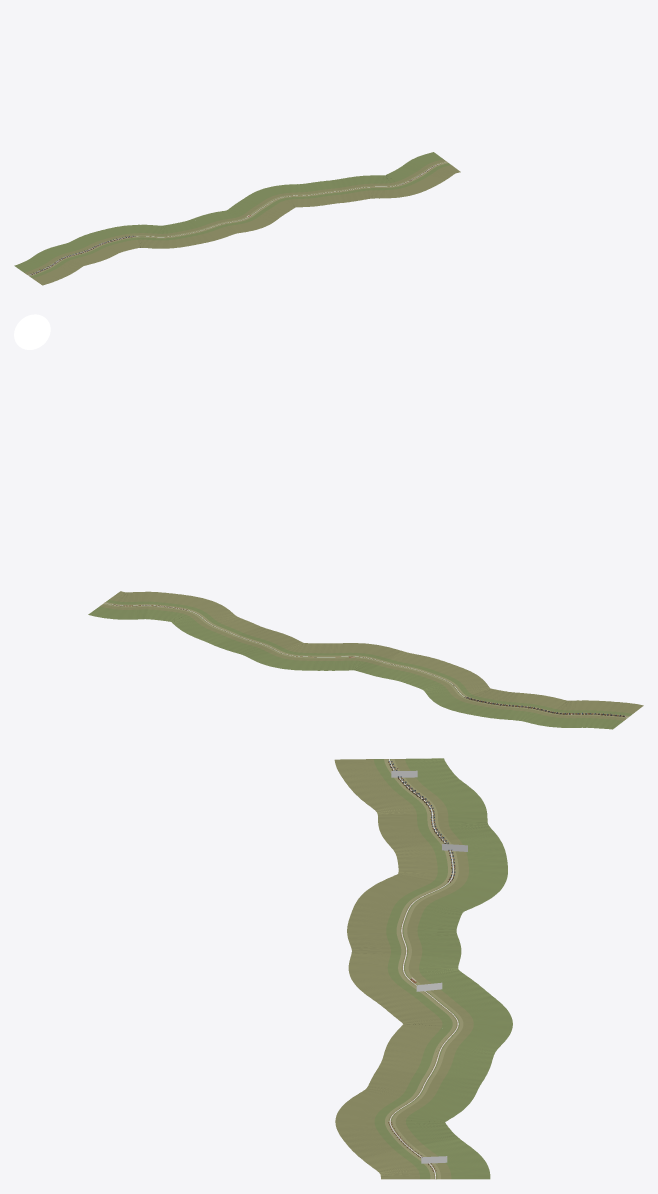
File: stampede.glb
3 renders of one model, top to bottom at view 1: azimuth 30°, elevation 25°; view 2: azimuth 150°, elevation 25°; view 3: azimuth 270°, elevation 25°, orthographic. The views are drawn at different scales.
Visible parts, largest first — view 1: Land_012, Land_005, Land_011, Land_006, Land_008, Land_002, Land_010, Land_004, Land_009, Land_001, Land_000, Land_003 (+2 smaller); view 2: Land_004, Land_011, Land_005, Land_012, Land_010, Land_008, Land_002, Land_013, Land_001, Land_007, Land_000, Land_006 (+3 smaller); view 3: Land_003, Land_009, Land_001, Land_013, Land_006, Land_008, Land_000, Land_010, Land_007, Land_004, Land_002, Land_011 (+2 smaller).
Boxes of the visible parts, left/top/right/bottom form: Land_012: left=386, top=167, right=445, bottom=196; Land_005: left=167, top=219, right=225, bottom=246; Land_011: left=352, top=175, right=406, bottom=198; Land_006: left=193, top=210, right=256, bottom=236; Land_008: left=240, top=185, right=295, bottom=213; Land_002: left=65, top=234, right=122, bottom=263; Land_010: left=314, top=177, right=366, bottom=203; Land_004: left=137, top=224, right=183, bottom=248; Land_009: left=280, top=182, right=333, bottom=207; Land_001: left=30, top=244, right=92, bottom=270; Land_000: left=14, top=258, right=76, bottom=285; Land_003: left=89, top=225, right=140, bottom=251; Land_004: left=421, top=668, right=490, bottom=703; Land_011: left=172, top=600, right=238, bottom=637; Land_005: left=394, top=654, right=463, bottom=688; Land_012: left=147, top=591, right=209, bottom=621; Land_010: left=195, top=617, right=269, bottom=650; Land_008: left=259, top=643, right=324, bottom=670; Land_002: left=489, top=692, right=558, bottom=722; Land_013: left=89, top=591, right=150, bottom=619; Land_001: left=527, top=698, right=586, bottom=727; Land_007: left=322, top=643, right=380, bottom=670; Land_000: left=584, top=700, right=643, bottom=729; Land_006: left=354, top=645, right=416, bottom=679; Land_003: left=396, top=848, right=507, bottom=894; Land_009: left=383, top=1024, right=509, bottom=1064; Land_001: left=363, top=779, right=487, bottom=821; Land_013: left=361, top=1137, right=490, bottom=1178; Land_006: left=348, top=936, right=461, bottom=972; Land_008: left=387, top=989, right=512, bottom=1035; Land_000: left=334, top=758, right=459, bottom=800; Land_010: left=368, top=1058, right=490, bottom=1097; Land_007: left=349, top=968, right=483, bottom=1010; Land_004: left=355, top=874, right=495, bottom=914; Land_002: left=378, top=819, right=503, bottom=855; Land_011: left=336, top=1087, right=473, bottom=1121.
Size of the model in its own units: 16762 by 4673 by 4702.
